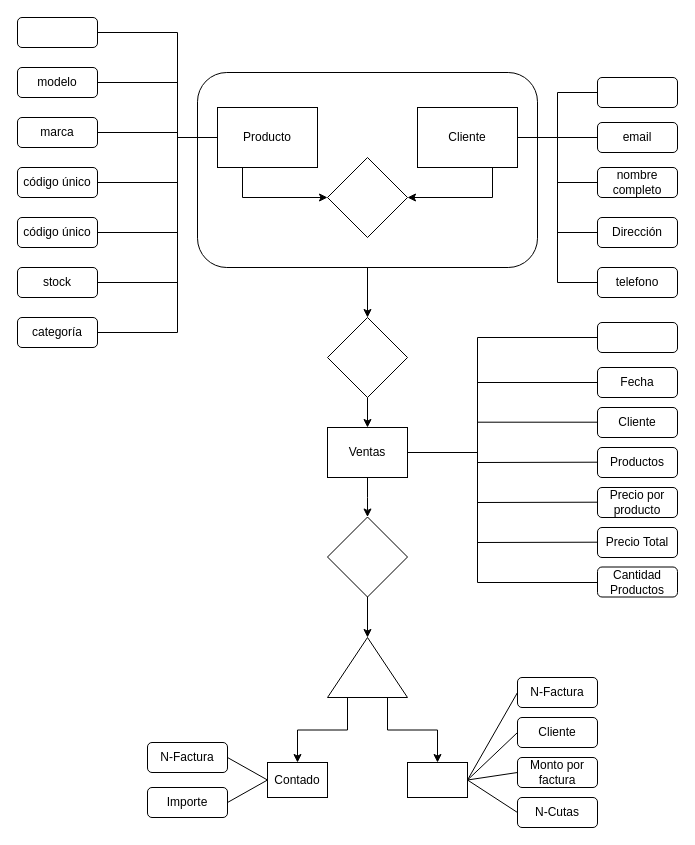
Some shapes in this 695 by 845 pixel diagram are drawn without their labels. The centre of each missing label's shape, as x and y in pixels:
Cat: the point at 367,667
Comprar: the point at 367,197
Credito: the point at 437,780
Formato: the point at 367,357
Numero Factura: the point at 637,337
número de identificación: the point at 637,92
Pago: the point at 367,556
precio: the point at 57,32
